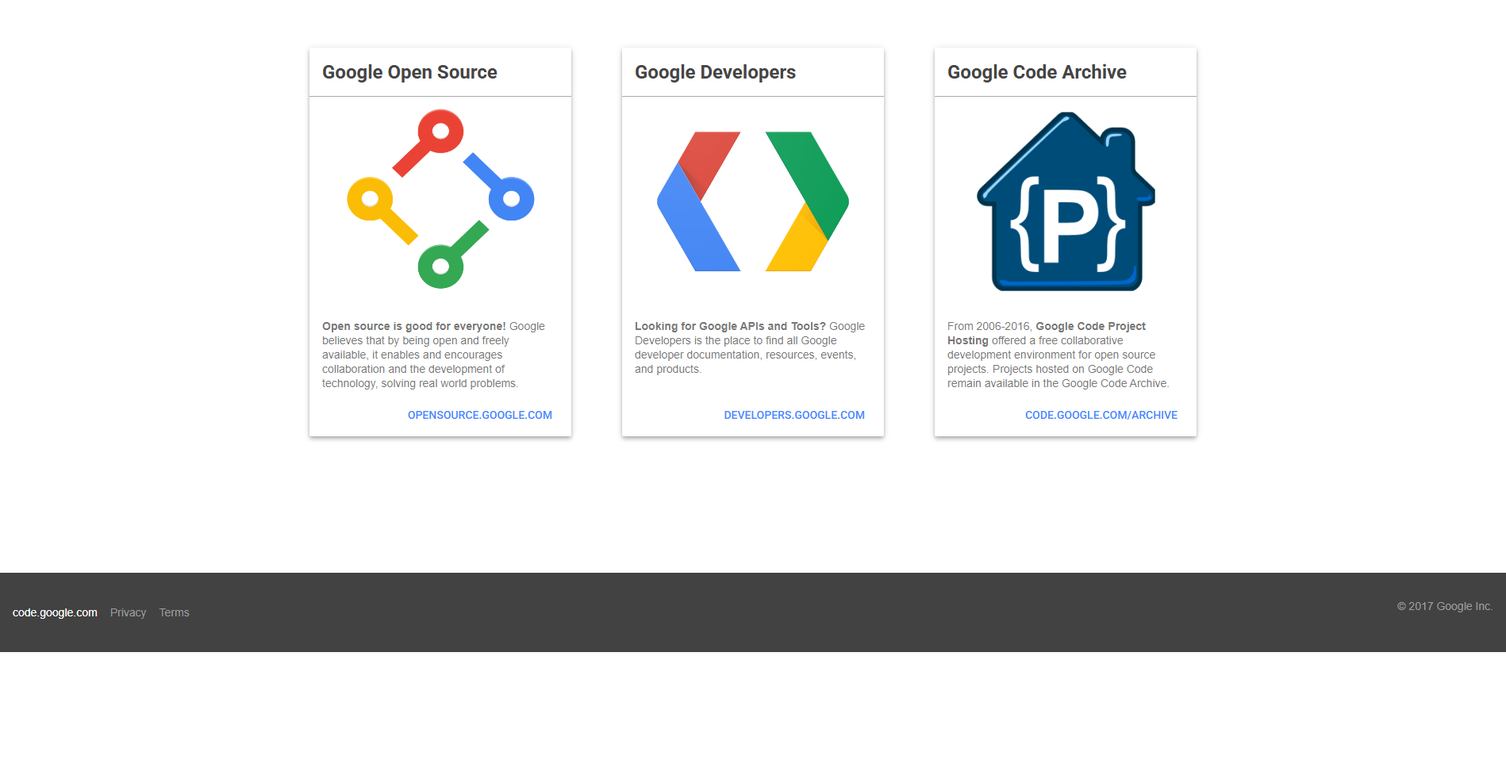button: (309, 48, 571, 395), (622, 48, 884, 395), (935, 48, 1197, 395), (1025, 409, 1178, 422), (408, 409, 552, 422), (724, 409, 865, 422), (110, 606, 146, 619), (159, 606, 189, 619)
link: (1012, 402, 1190, 430), (395, 402, 565, 430), (711, 402, 878, 430)
toggle: (648, 97, 858, 306), (336, 97, 545, 306), (961, 97, 1170, 306)
